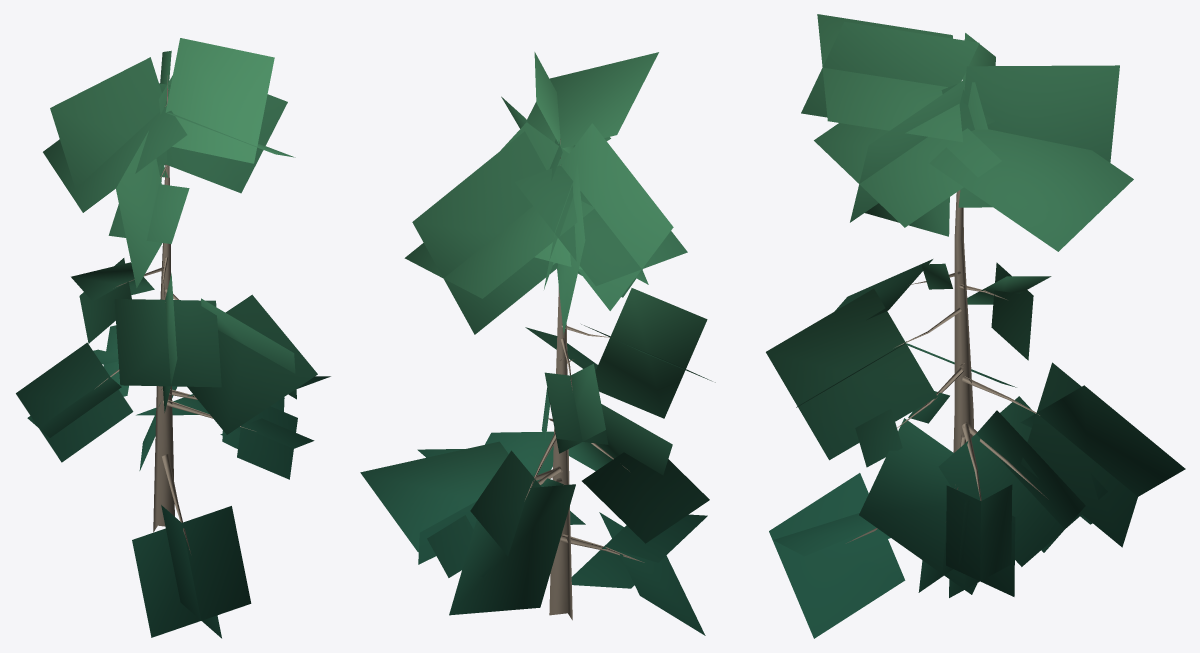
File: pine-a-liviano.glb
3 views of the same model, side by side, from view 1: azimuth 30°, elevation 25°; view 2: azimuth 150°, elevation 25°; view 3: azimuth 270°, elevation 25° (orthographic). The views are drawn at different scales.
Parts seen in each view (by area): view 1: pine-a-liviano; view 2: pine-a-liviano; view 3: pine-a-liviano.
Part boxes in pixels (x1,y1,x2,y2): pine-a-liviano: [16, 38, 330, 638]; pine-a-liviano: [360, 52, 715, 635]; pine-a-liviano: [766, 14, 1185, 638].
Size of the model in its own units: 6.91 by 12.76 by 7.68.
